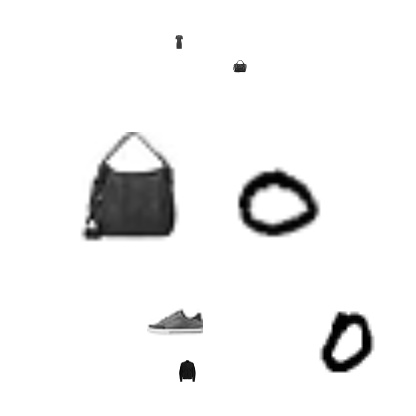0: (219, 144, 331, 256), (302, 300, 386, 384)
Bag: (74, 132, 186, 244), (233, 59, 247, 73)
Coat: (176, 360, 198, 382)
Dress: (172, 35, 186, 49)
Sneaker: (147, 293, 203, 349)
